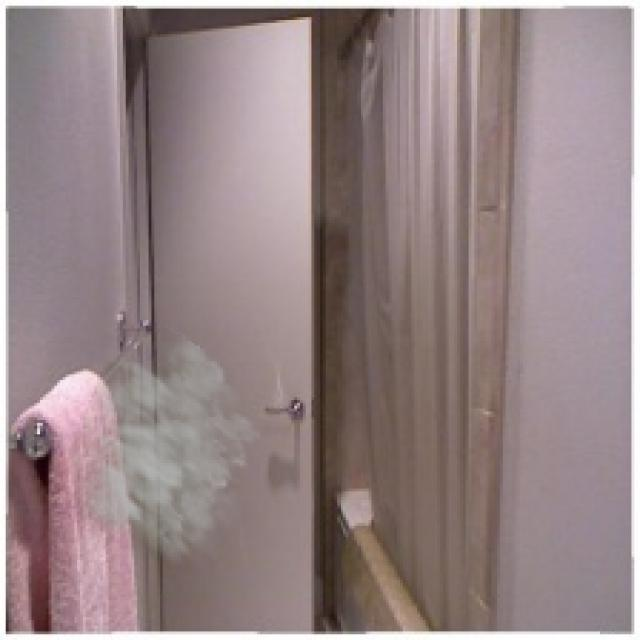Smoke: (51, 323, 263, 574)
